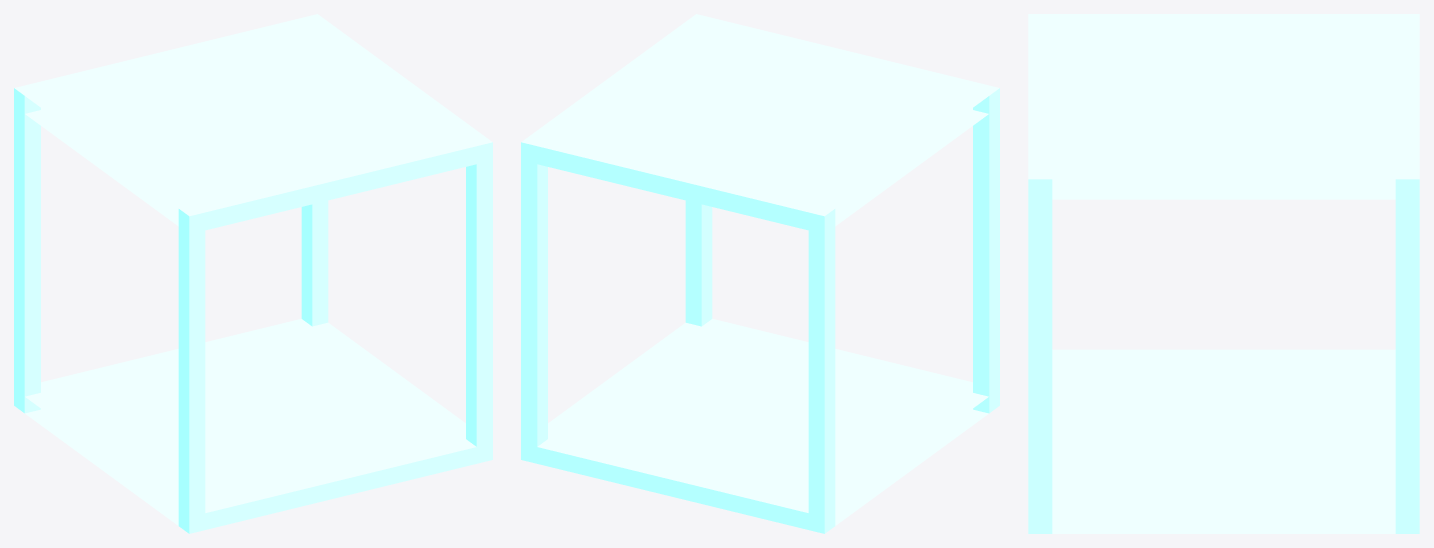
Rendered from hollCubeUp.fbx.
The picture shows the model from 3 angles, left to right: view 1: azimuth 30°, elevation 25°; view 2: azimuth 150°, elevation 25°; view 3: azimuth 270°, elevation 25°; orthographic projection. The views are drawn at different scales.
Visible parts, largest first — view 1: Cube; view 2: Cube; view 3: Cube.
Part boxes in pixels (<box>): Cube: <box>14,14,492,533</box>; Cube: <box>521,14,999,533</box>; Cube: <box>1028,14,1419,533</box>.
Bounding box in the file's own units: 2 × 2 × 2.
